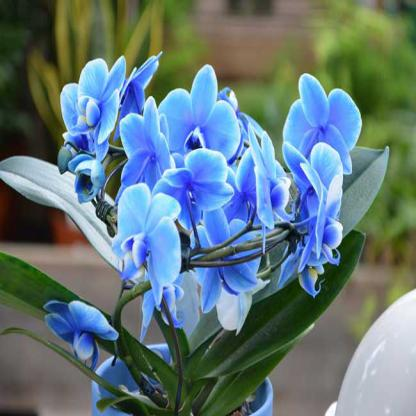ANGGREK: (51, 29, 357, 367)
